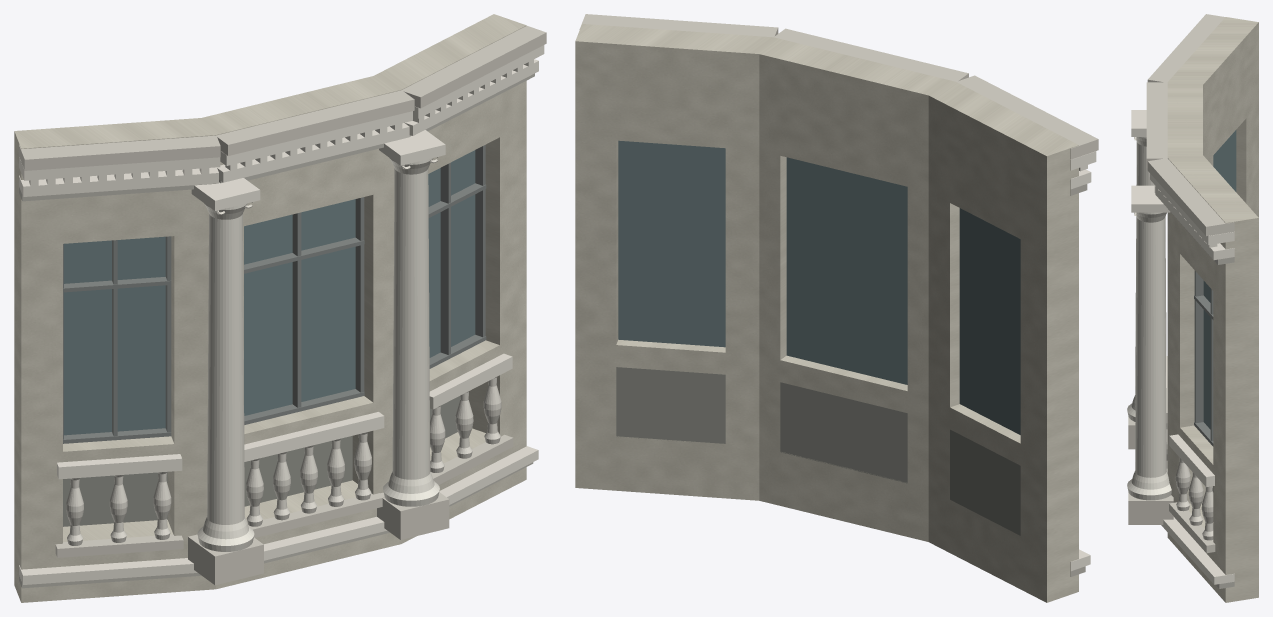
File: fuxing-492-curved-window-bay-near.glb
The picture shows the model from 3 angles, left to right: view 1: azimuth 30°, elevation 25°; view 2: azimuth 150°, elevation 25°; view 3: azimuth 270°, elevation 25°; orthographic projection. The views are drawn at different scales.
Parts seen in each view (by area): view 1: 复兴中路492号住宅浅弧窗湾与瓶形栏杆; view 2: 复兴中路492号住宅浅弧窗湾与瓶形栏杆; view 3: 复兴中路492号住宅浅弧窗湾与瓶形栏杆.
Boxes of the visible parts, x1,y1,x2,y2 form: 复兴中路492号住宅浅弧窗湾与瓶形栏杆: (14, 14, 546, 602); 复兴中路492号住宅浅弧窗湾与瓶形栏杆: (575, 14, 1098, 602); 复兴中路492号住宅浅弧窗湾与瓶形栏杆: (1127, 14, 1258, 602).
Bounding box in the file's own units: 5.12 × 4.26 × 1.34.
Materials: 9 (1 with a texture image).
